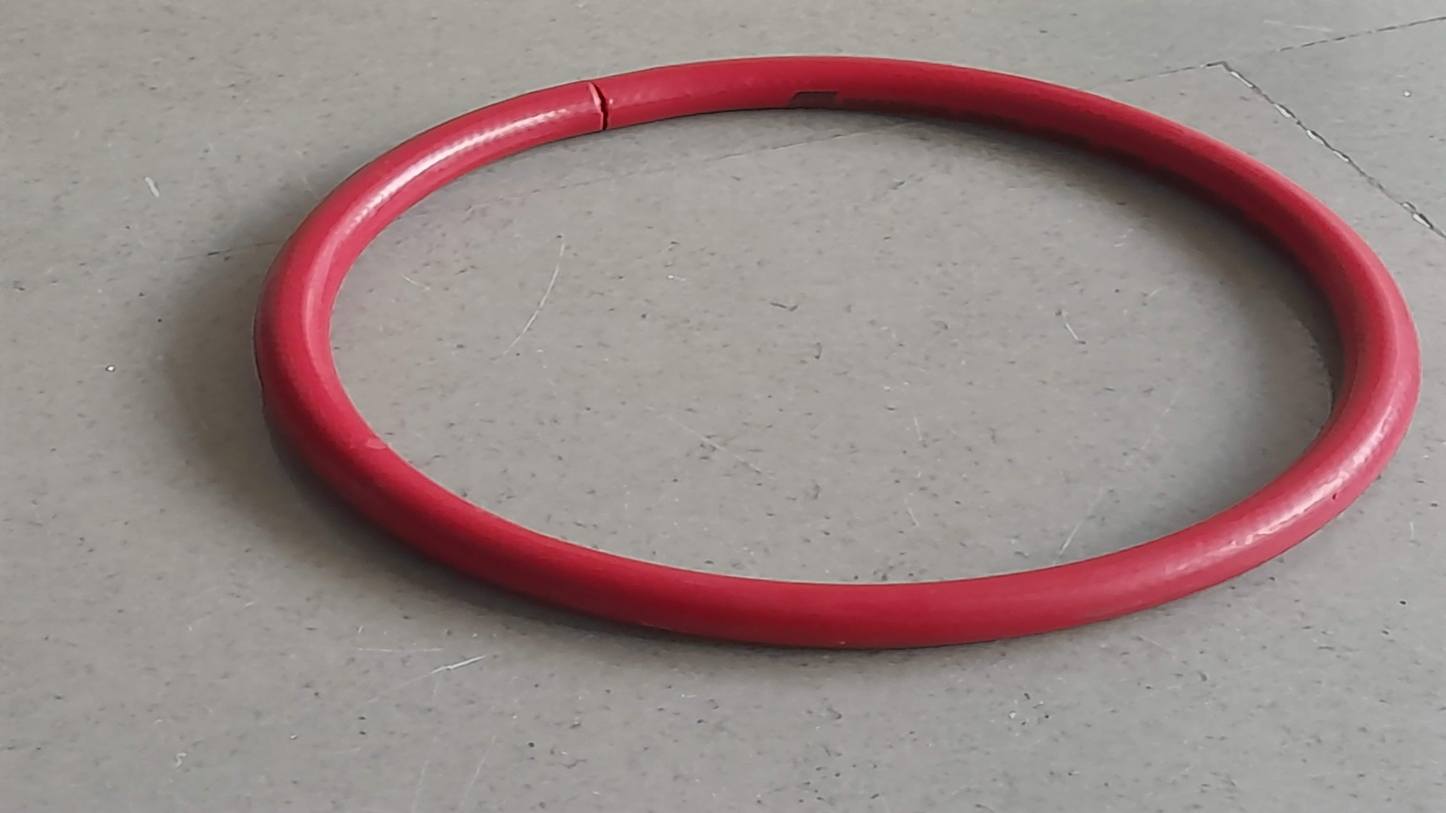Red ring: (255, 58, 1421, 641)
